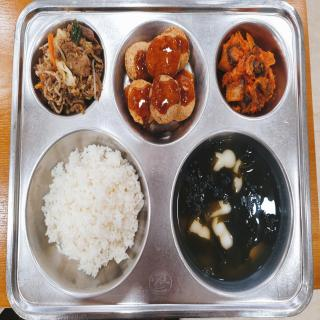Nasi: (41, 148, 142, 284)
